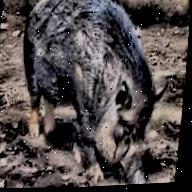boar: (1, 0, 176, 191)
